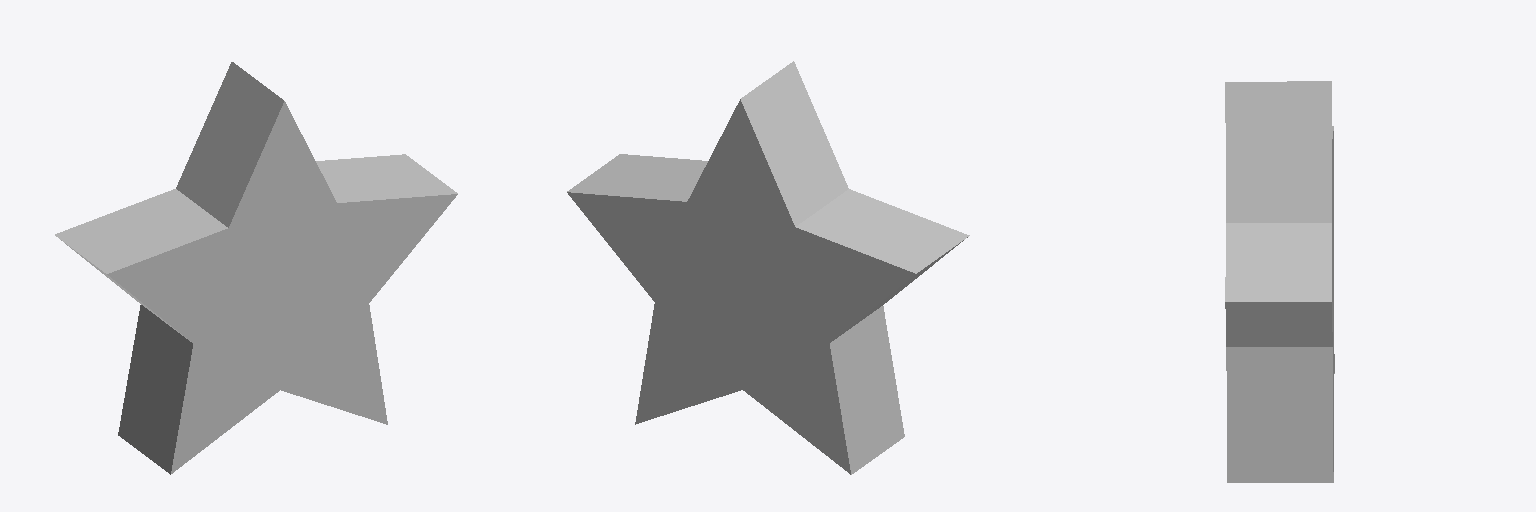
The model's file is bonus_star.obj.
3 views of the same model, side by side, from view 1: azimuth 30°, elevation 25°; view 2: azimuth 150°, elevation 25°; view 3: azimuth 270°, elevation 25° (orthographic).
Parts seen in each view (by area): view 1: Star; view 2: Star; view 3: Star.
Part boxes in pixels (x1,y1,x2,y2): Star: (55, 62, 457, 474); Star: (567, 61, 969, 474); Star: (1225, 81, 1334, 482).
Size of the model in its own units: 1.95 by 1.86 by 0.525.